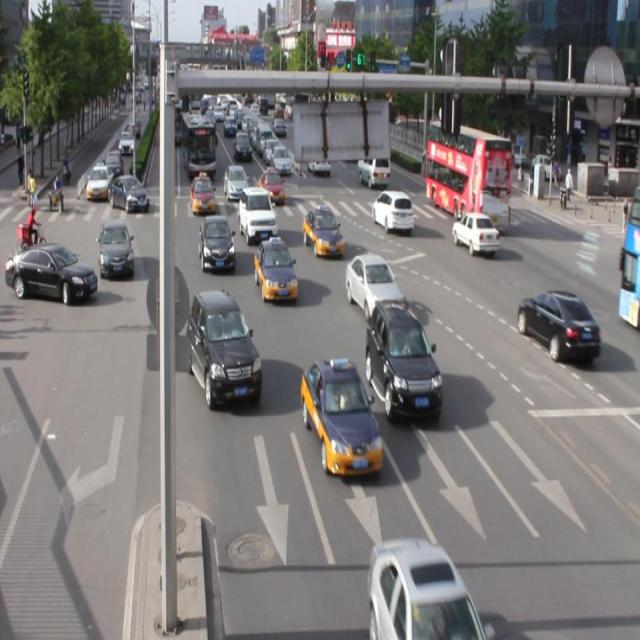car: (366, 533, 483, 640), (300, 355, 383, 473), (365, 298, 442, 421), (186, 289, 261, 407), (516, 288, 600, 361), (345, 252, 403, 322), (254, 238, 298, 302), (98, 218, 135, 280), (198, 213, 235, 273), (451, 210, 499, 256), (302, 206, 343, 256), (372, 188, 414, 232)
van: (427, 118, 510, 226)
